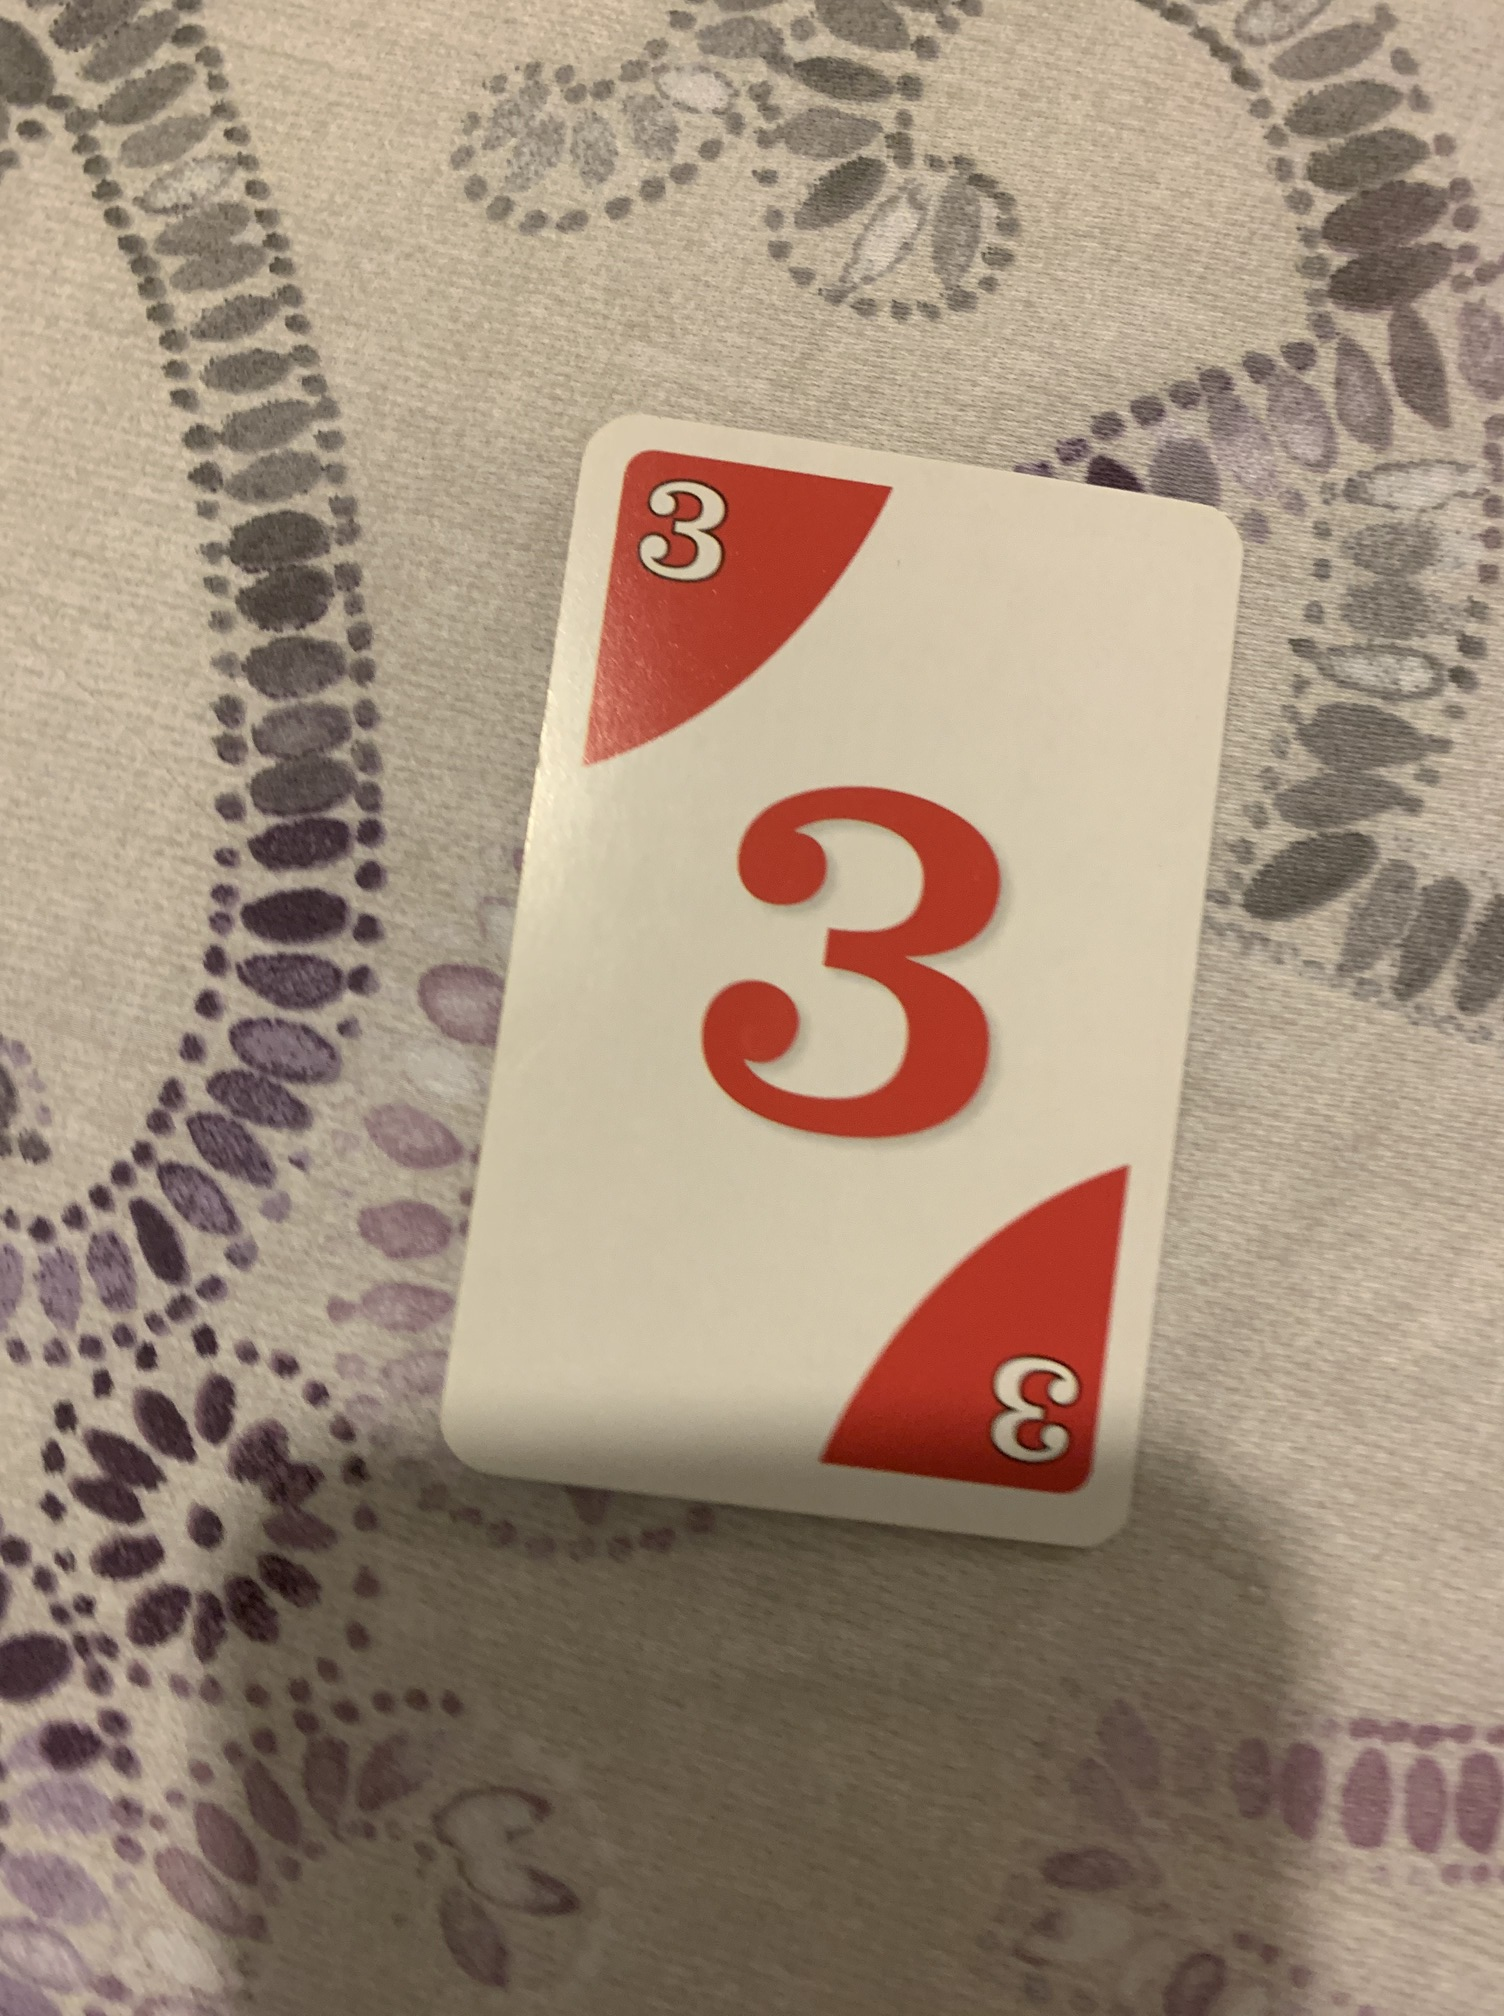three: (441, 411, 1253, 1551)
